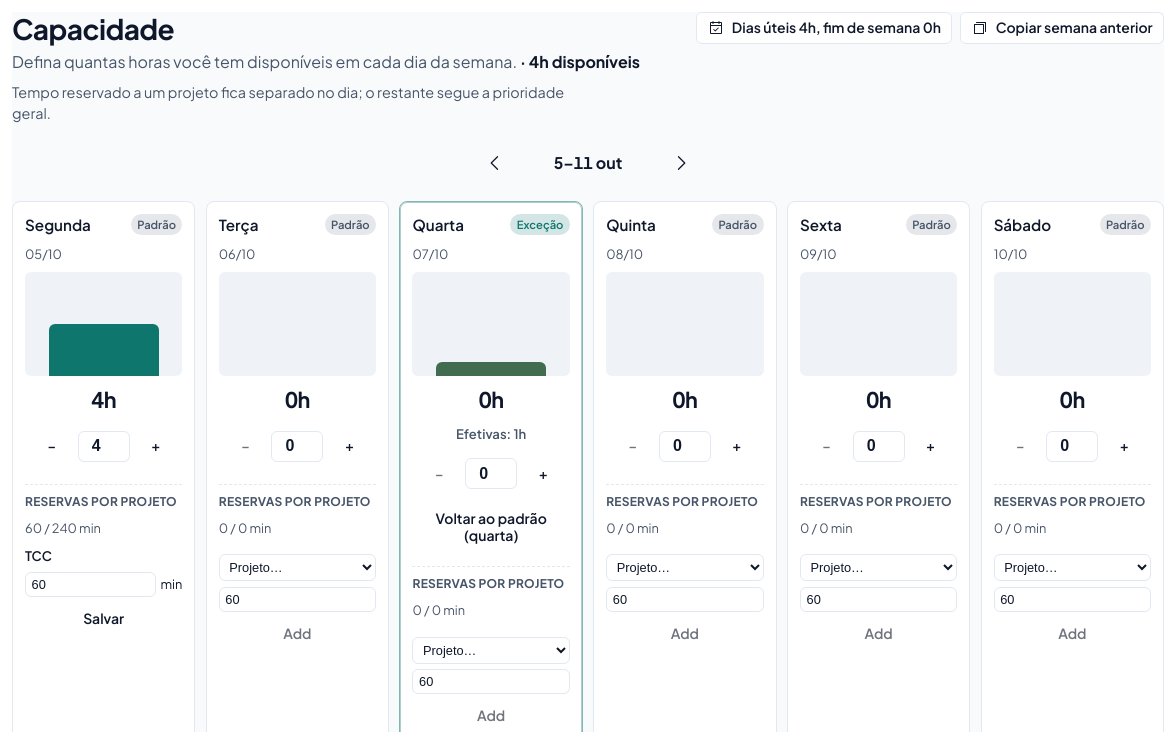
Test: CapacidadePage › aplica preset dias úteis 4h e fim de semana 0h no estado local
This screenshot has width=1176, height=732.
Click the button "Dias úteis 4h, fim de semana 0h": x=824, y=28 [696, 12, 952, 44]
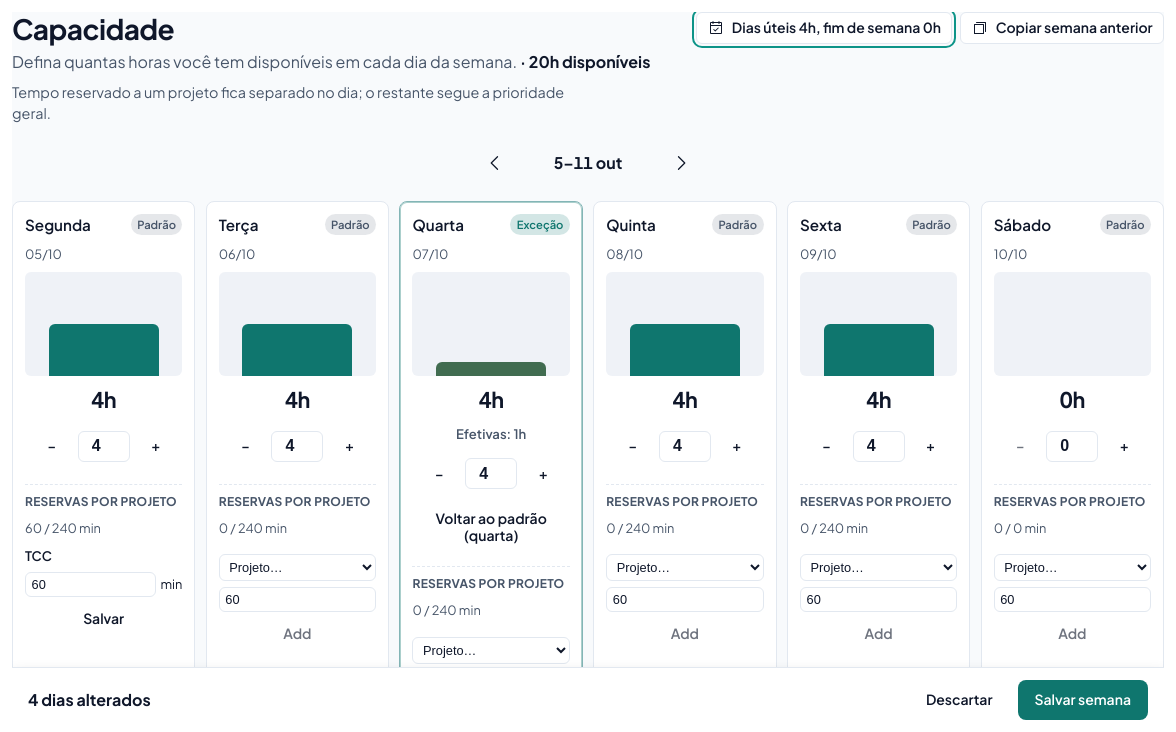
Check: the text "· 20h disponíveis" is shown, box [517, 51, 650, 72]
